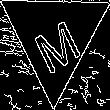M_NW: (26, 4, 83, 71)
